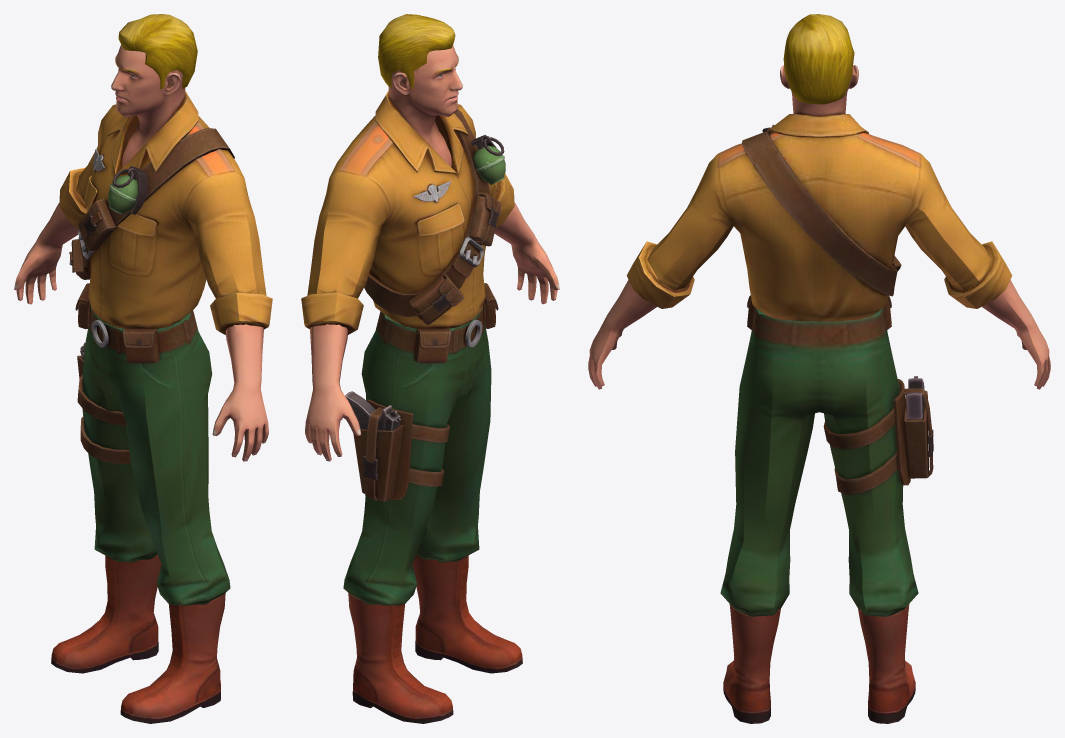
File: g.i._joe_earth_wars_duke.obj.glb
3 renders of one model, left to right at view 1: azimuth 30°, elevation 25°; view 2: azimuth 150°, elevation 25°; view 3: azimuth 270°, elevation 25°, orthographic. The views are drawn at different scales.
Parts seen in each view (by area): view 1: Object_2; view 2: Object_2; view 3: Object_2.
Boxes of the visible parts, x1,y1,x2,y2 form: Object_2: (14, 14, 272, 723); Object_2: (301, 14, 559, 723); Object_2: (588, 14, 1050, 723).
Size of the model in its own units: 0.5245 by 2.5 by 1.53.
1 material, 1 textured.
